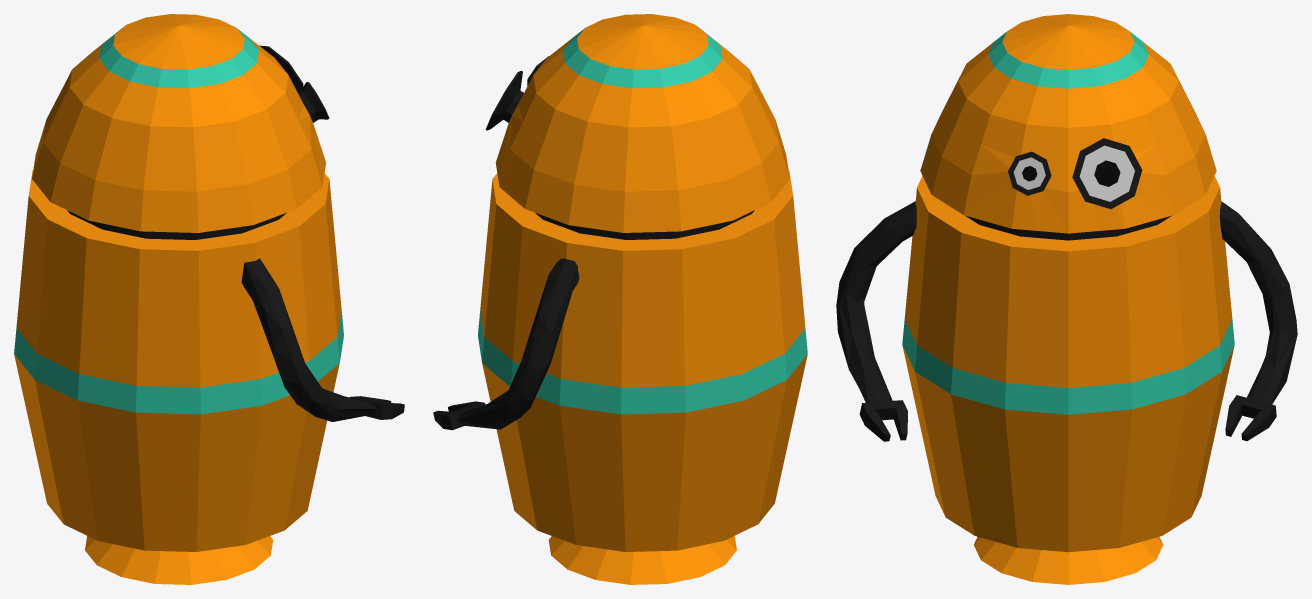
Rendered from orangeBot.dae.
The picture shows the model from 3 angles, left to right: view 1: azimuth 30°, elevation 25°; view 2: azimuth 150°, elevation 25°; view 3: azimuth 270°, elevation 25°; orthographic projection.
Parts seen in each view (by area): view 1: Cylinder, Circle_002, Cube_001; view 2: Cylinder, Circle_001, Cube; view 3: Cylinder, Circle_002, Circle_001, Cube, Cube_001.
Boxes of the visible parts, left/top/right/bottom form: Cylinder: left=14, top=14, right=343, bottom=584; Circle_002: left=241, top=258, right=376, bottom=421; Cube_001: left=349, top=396, right=404, bottom=419; Cylinder: left=478, top=14, right=807, bottom=584; Circle_001: left=457, top=258, right=579, bottom=429; Cube: left=433, top=401, right=485, bottom=430; Cylinder: left=902, top=14, right=1234, bottom=584; Circle_002: left=836, top=201, right=916, bottom=402; Circle_001: left=1219, top=201, right=1297, bottom=404; Cube: left=1225, top=395, right=1276, bottom=441; Cube_001: left=859, top=400, right=907, bottom=441.
Size of the model in its own units: 0.5154 by 0.888 by 0.7151.
